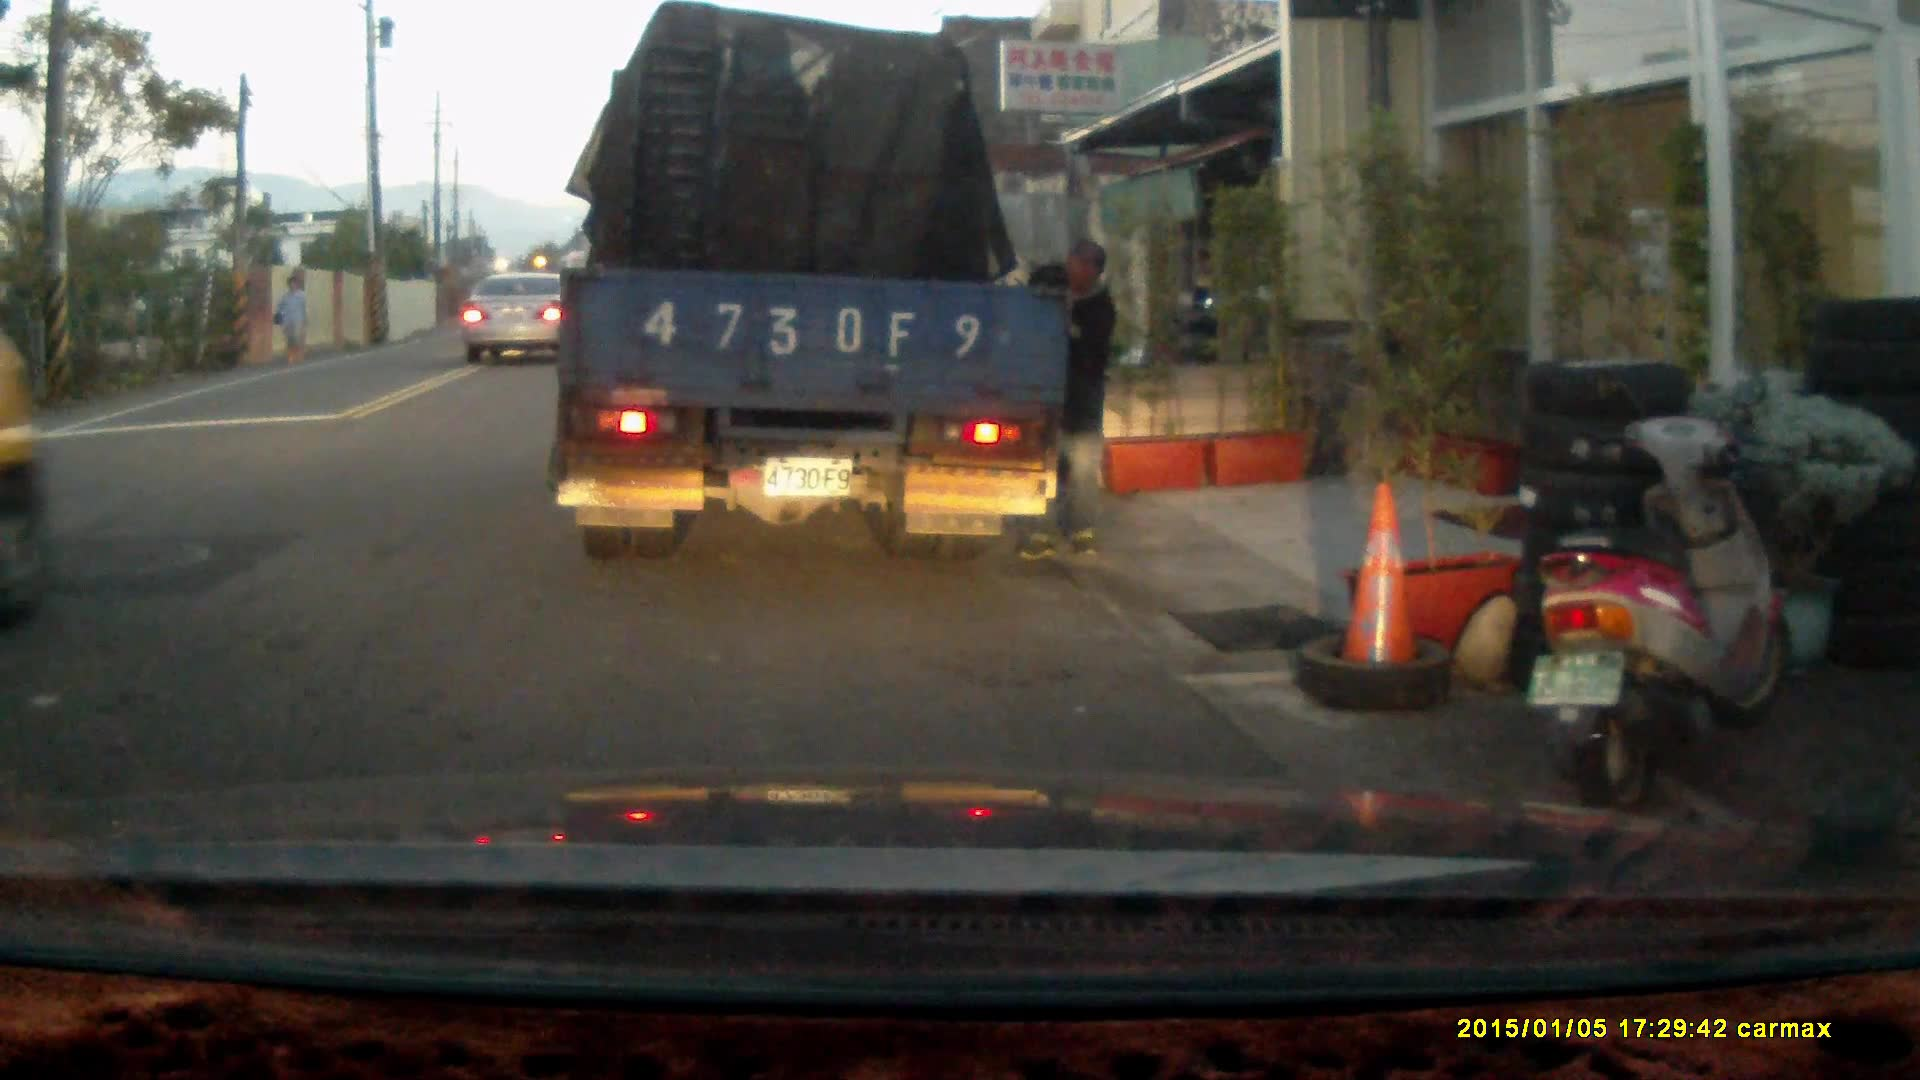pedestrian: (1005, 238, 1118, 562), (267, 271, 308, 365)
vehicle: (555, 25, 1064, 554), (1, 333, 51, 624), (465, 270, 583, 360)
